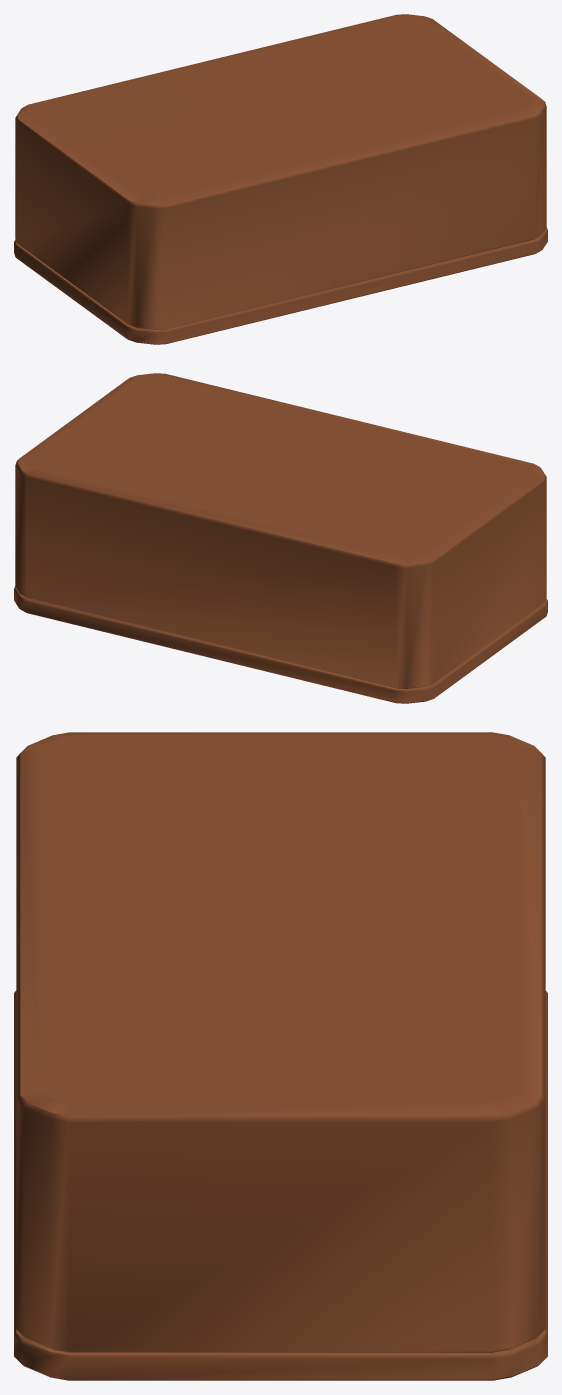
The model's file is xadrez_caixa_pecas_pacote.glb.
3 renders of one model, top to bottom at view 1: azimuth 30°, elevation 25°; view 2: azimuth 150°, elevation 25°; view 3: azimuth 270°, elevation 25°, orthographic. The views are drawn at different scales.
Parts seen in each view (by area): view 1: tampa, xadrez_caixa_pecas_pacote; view 2: tampa, xadrez_caixa_pecas_pacote; view 3: tampa, xadrez_caixa_pecas_pacote.
Part boxes in pixels (bbox=[...]): tampa: bbox=[15, 14, 546, 329]; xadrez_caixa_pecas_pacote: bbox=[14, 227, 547, 344]; tampa: bbox=[15, 373, 546, 688]; xadrez_caixa_pecas_pacote: bbox=[14, 586, 547, 703]; tampa: bbox=[16, 732, 545, 1352]; xadrez_caixa_pecas_pacote: bbox=[14, 991, 547, 1380].
Size of the model in its own units: 0.4781 by 0.1541 by 0.2773.
1 material, 1 textured.
